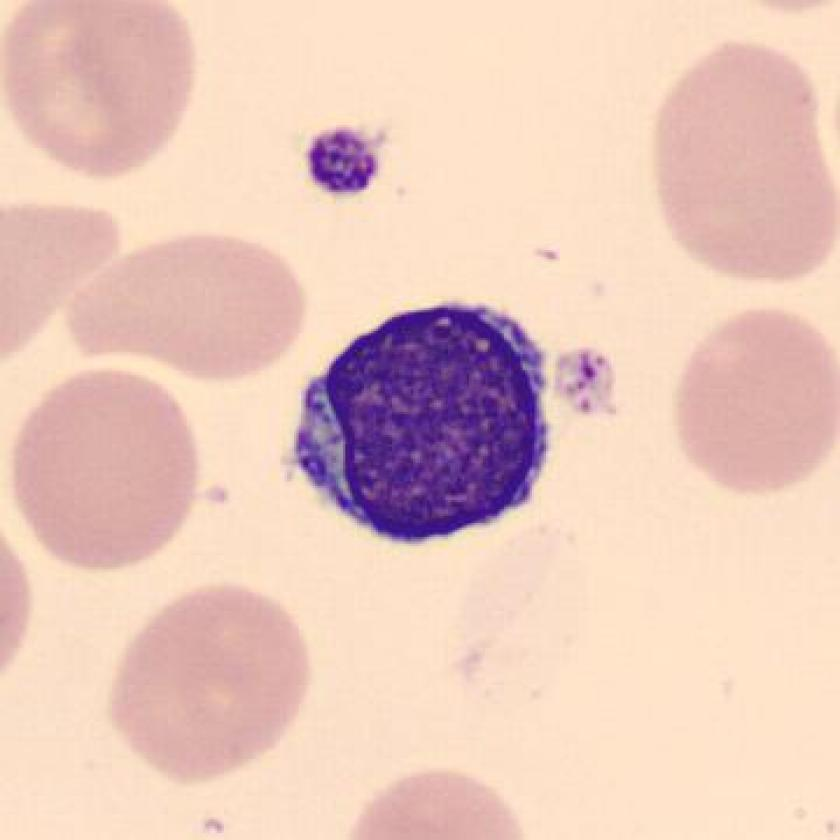lymphocyte: (279, 281, 568, 561)
